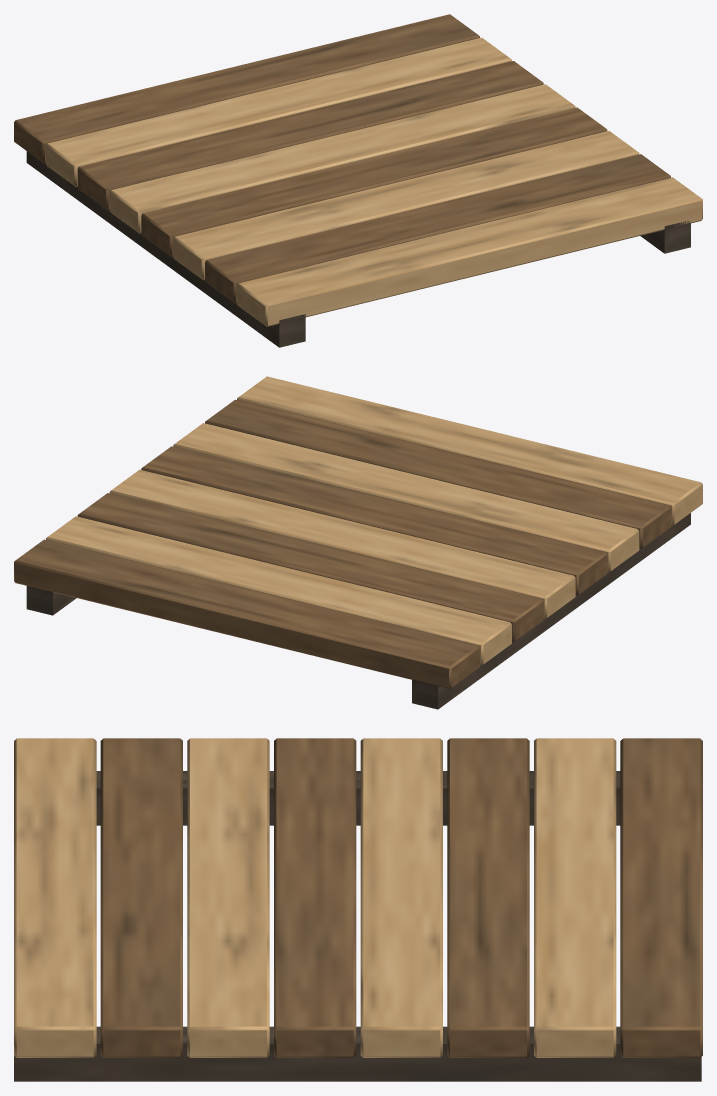
Rendered from SM_WoodFloor.fbx.
The picture shows the model from 3 angles, top to bottom: view 1: azimuth 30°, elevation 25°; view 2: azimuth 150°, elevation 25°; view 3: azimuth 270°, elevation 25°; orthographic projection. The views are drawn at different scales.
Visible parts, largest first — view 1: SM_WoodFloor; view 2: SM_WoodFloor; view 3: SM_WoodFloor.
Part boxes in pixels (box(x1,y1,x2,y2)): SM_WoodFloor: box(14, 14, 702, 347); SM_WoodFloor: box(14, 376, 702, 709); SM_WoodFloor: box(14, 738, 702, 1081).
Size of the model in its own units: 10 by 1 by 10.02.
1 material, 1 textured.
